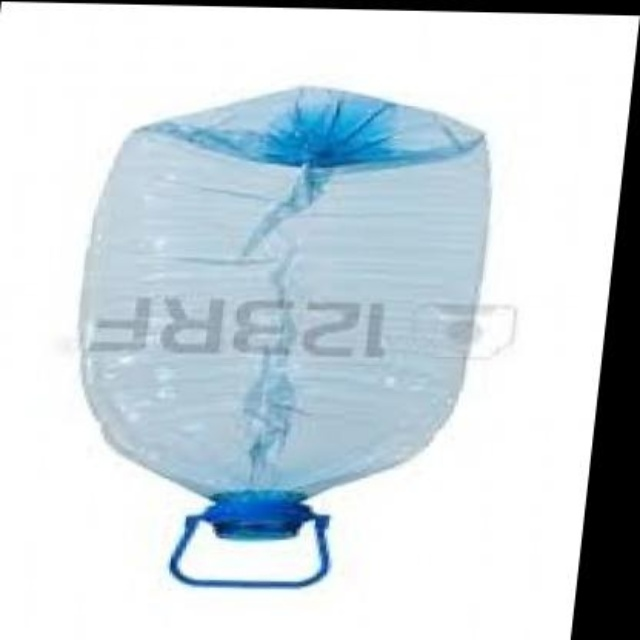trash: (80, 88, 488, 582)
